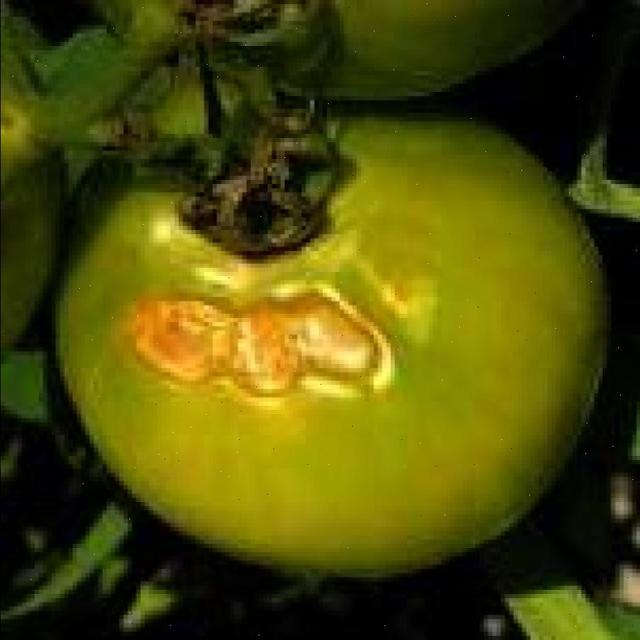Sunscald Fruit: (80, 169, 281, 289)
